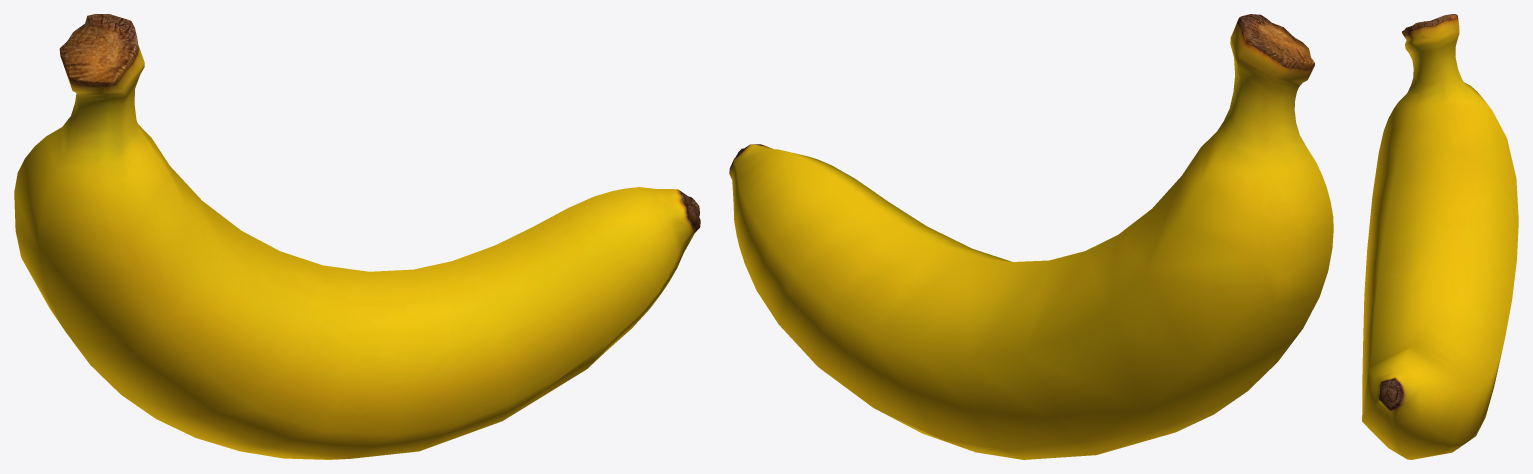
File: bichito.glb
3 renders of one model, left to right at view 1: azimuth 30°, elevation 25°; view 2: azimuth 150°, elevation 25°; view 3: azimuth 270°, elevation 25°, orthographic. The views are drawn at different scales.
Parts seen in each view (by area): view 1: tripo_node_a1a35039-0b99-4505-b00b-8733df684054; view 2: tripo_node_a1a35039-0b99-4505-b00b-8733df684054; view 3: tripo_node_a1a35039-0b99-4505-b00b-8733df684054.
Part boxes in pixels (x1,y1,x2,y2): tripo_node_a1a35039-0b99-4505-b00b-8733df684054: (14, 14, 700, 459); tripo_node_a1a35039-0b99-4505-b00b-8733df684054: (729, 14, 1333, 459); tripo_node_a1a35039-0b99-4505-b00b-8733df684054: (1362, 14, 1518, 459).
Bounding box in the file's own units: 0.9995 × 0.7456 × 0.3198.
1 material, 1 textured.
